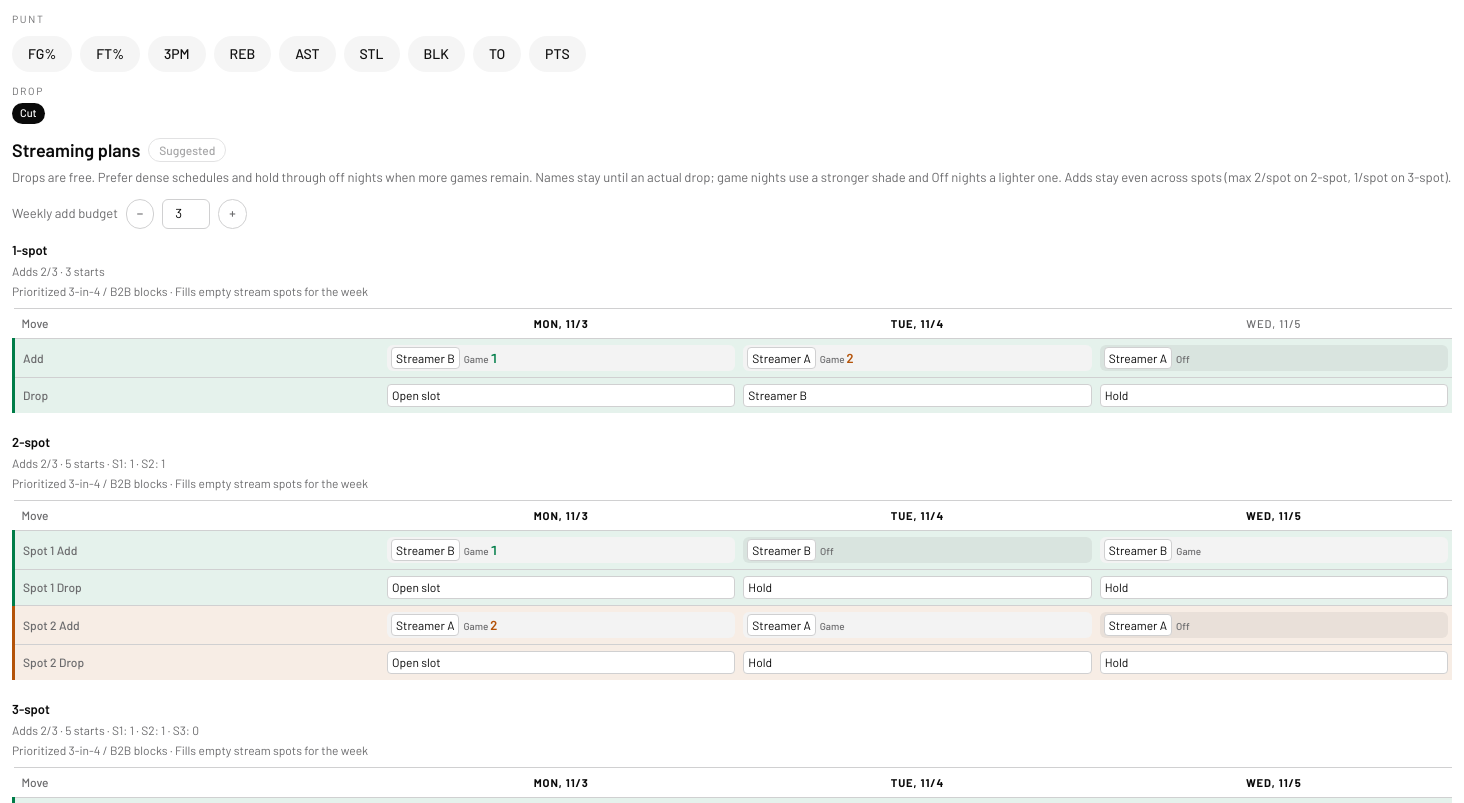
Scenario: StreamingPlansPanel › replaces the shown streamer on a day whose drop still reads Hold
The width and height of the screenshot is (1464, 803).
Click the dropdown named "Stream add".
click(1138, 358)  # box left=1104, top=347, right=1172, bottom=369
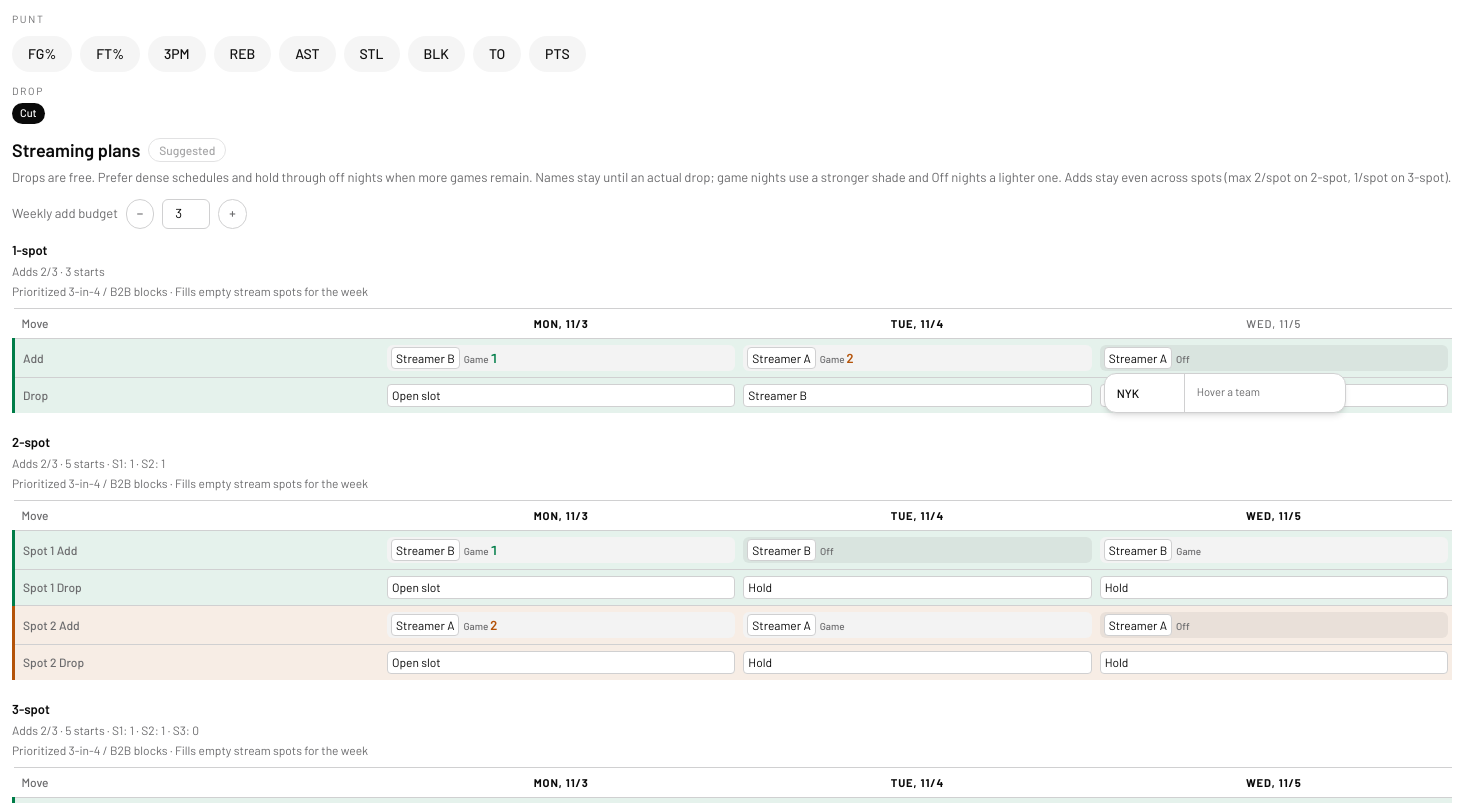
Now the button with aria-label "Team NYK" is shown
Hover over the button with aria-label "Team NYK".
mouse_move(1144, 393)  # box left=1111, top=380, right=1178, bottom=406
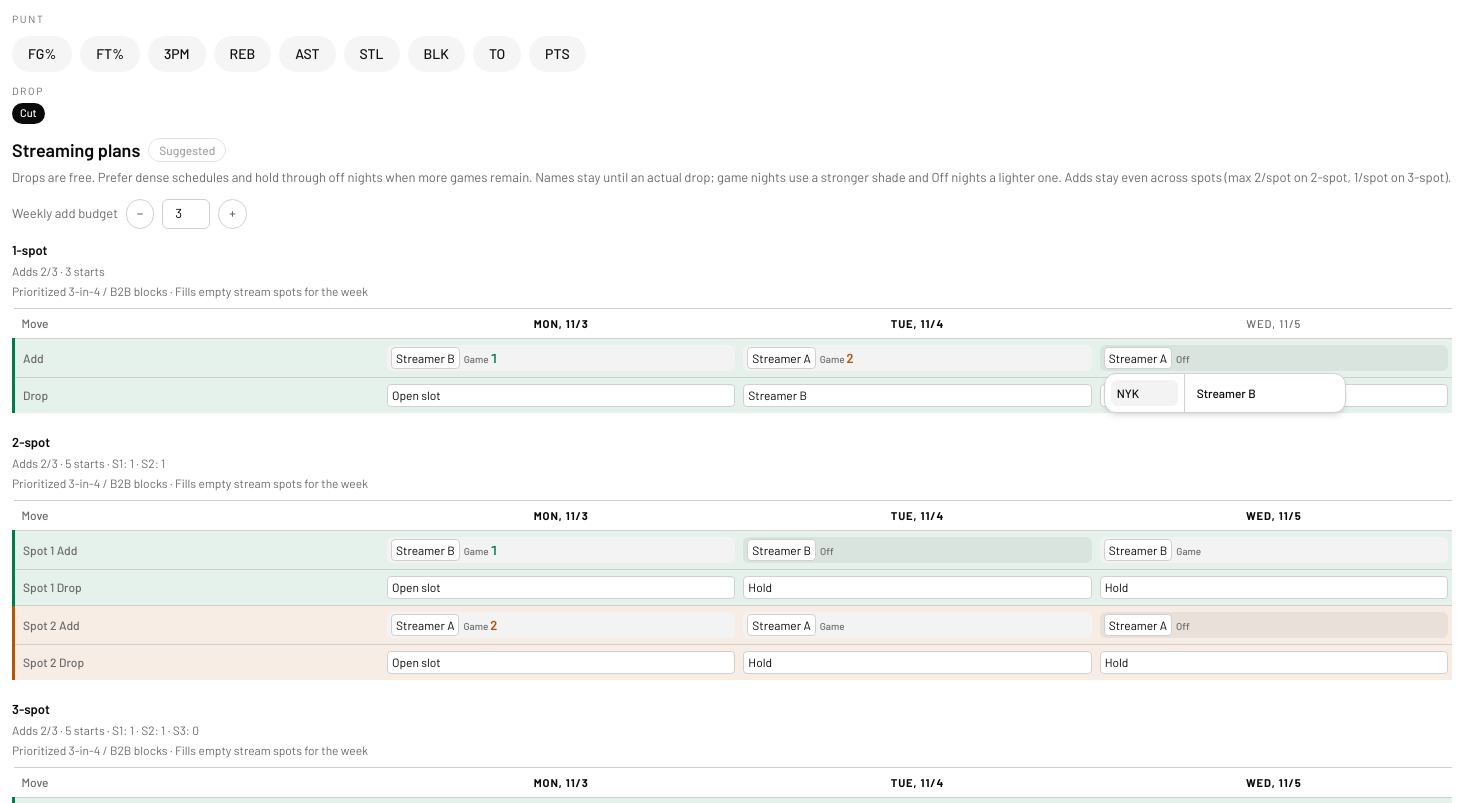
Click the option with aria-label "Add Streamer B".
click(1265, 393)  # box left=1191, top=380, right=1339, bottom=406
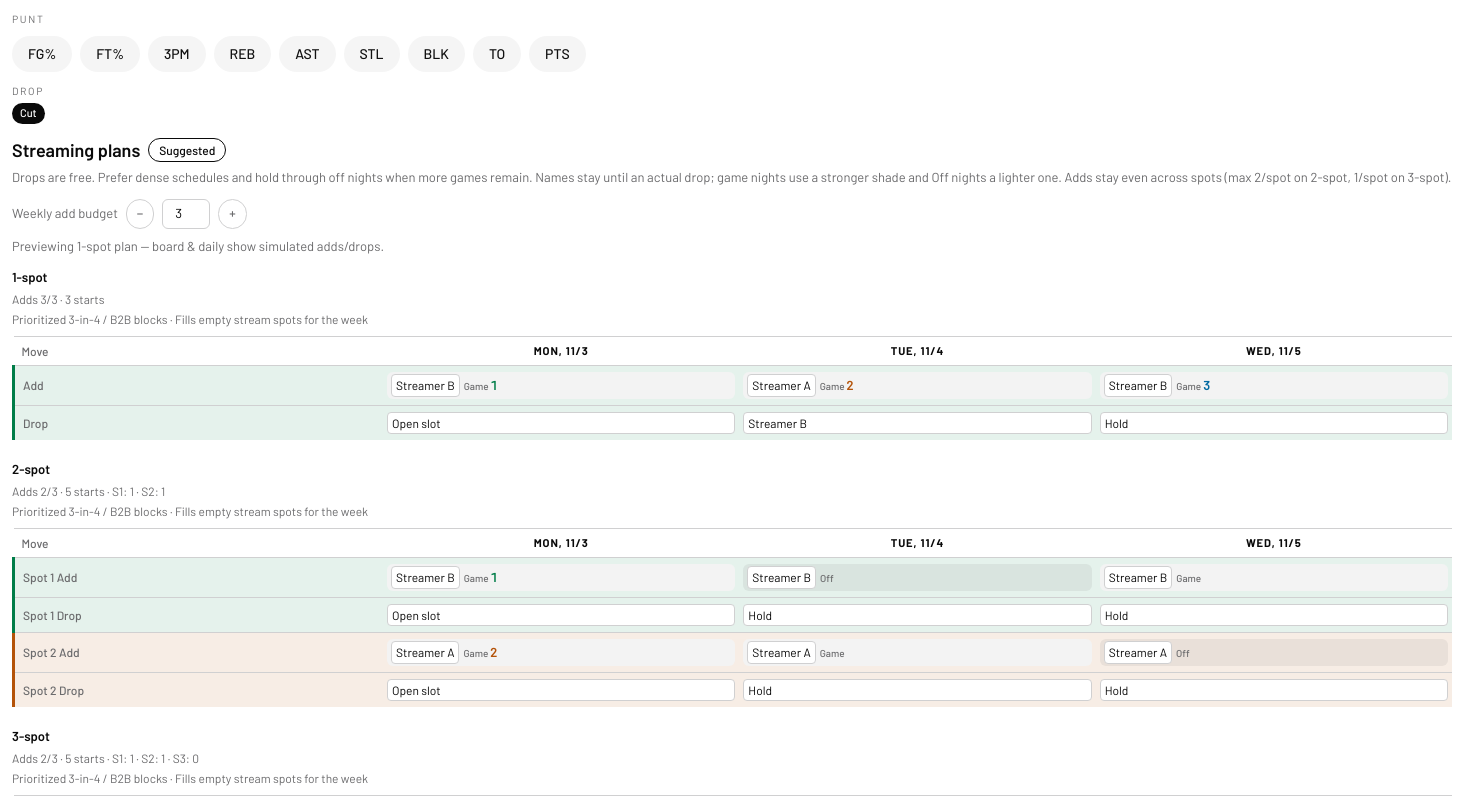
Now the dropdown named "Stream add" reads "Streamer B", box left=1104, top=374, right=1172, bottom=397
